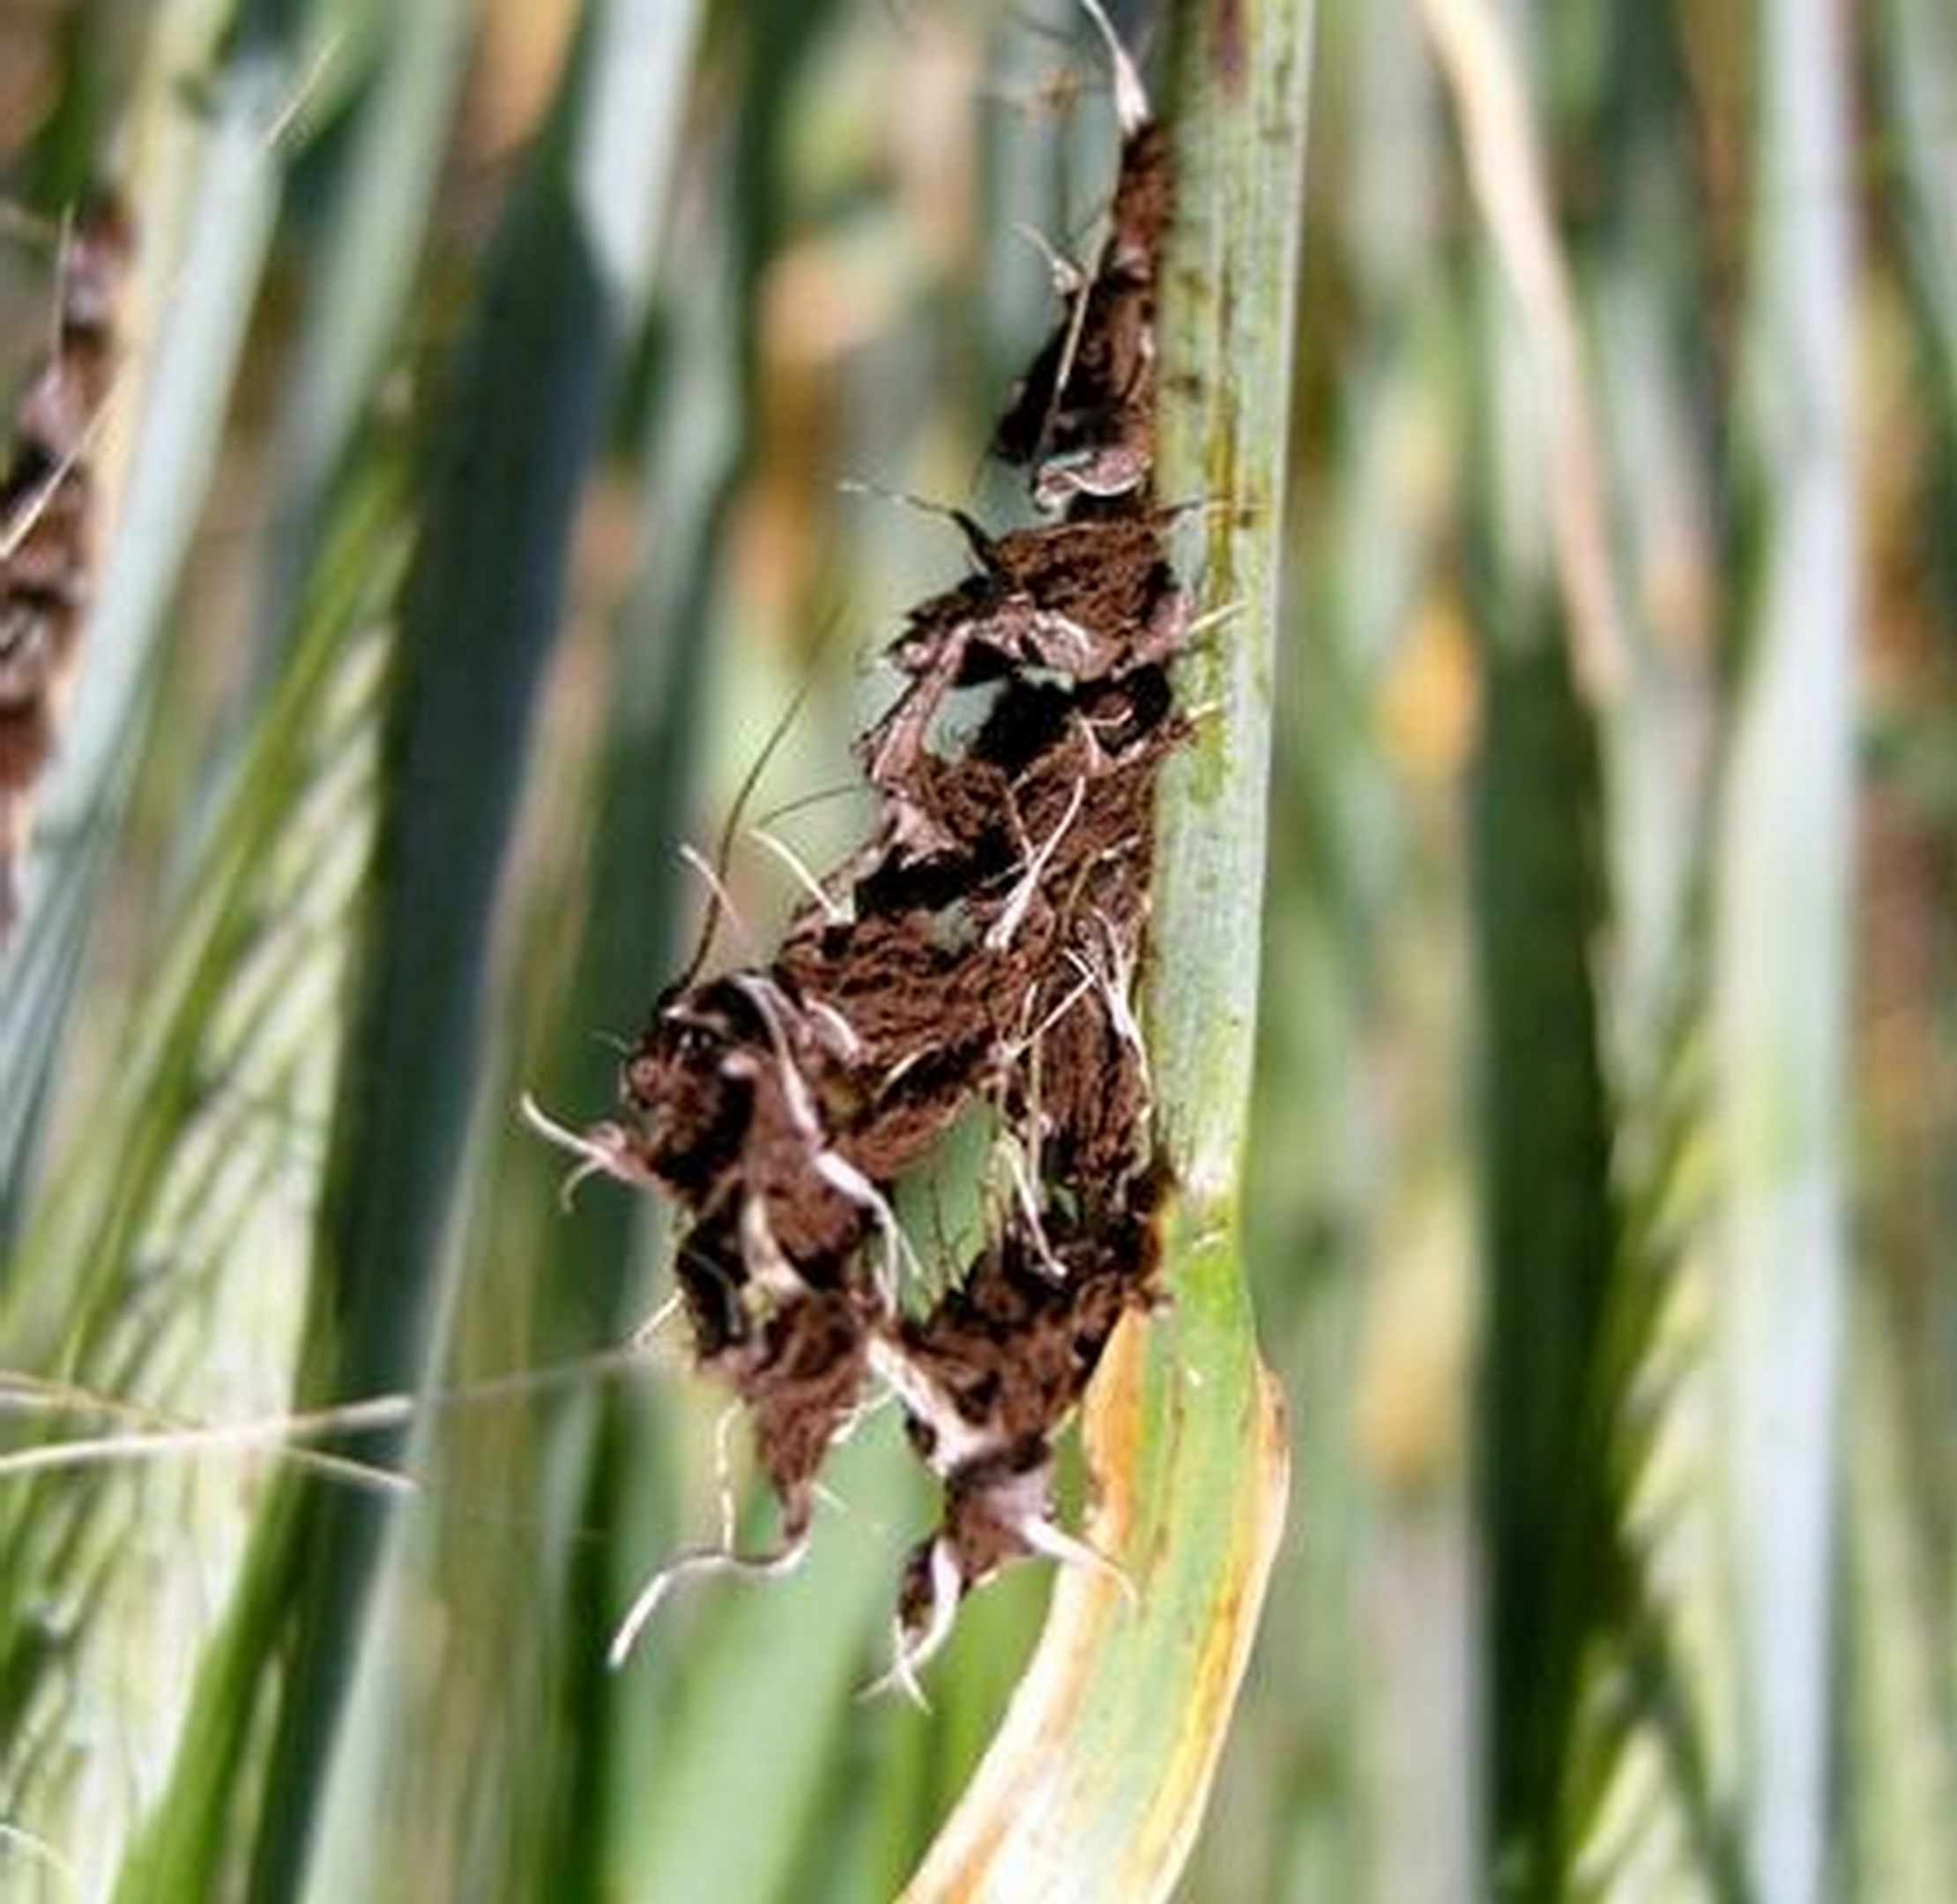Wheat Loose Smut: (659, 173, 1276, 1525)
